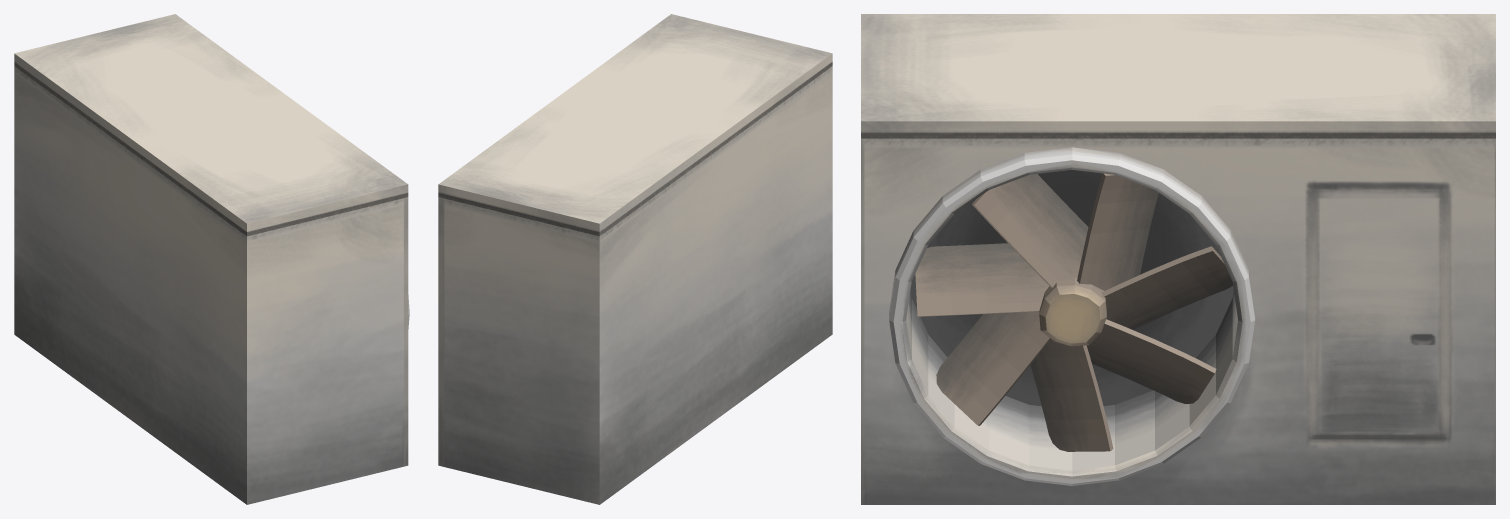
Rendered from air vent.fbx.
3 views of the same model, side by side, from view 1: azimuth 30°, elevation 25°; view 2: azimuth 150°, elevation 25°; view 3: azimuth 270°, elevation 25° (orthographic). The views are drawn at different scales.
Visible parts, largest first — view 1: Cube; view 2: Cube; view 3: Cube, Cube.001.
Boxes of the visible parts, x1,y1,x2,y2 form: Cube: (14, 14, 409, 504); Cube: (438, 14, 832, 504); Cube: (861, 14, 1495, 504); Cube.001: (915, 173, 1232, 451).
Bounding box in the file's own units: 130 × 200 × 300.
